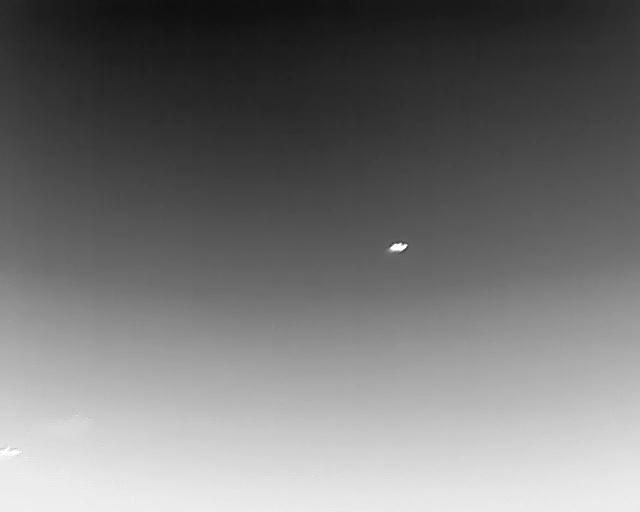fpv-drone: (387, 242, 407, 252)
